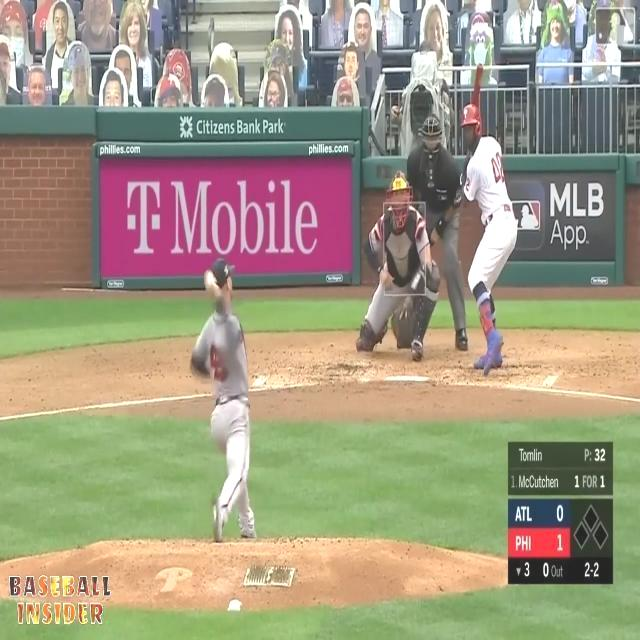ball: (206, 270, 218, 286)
